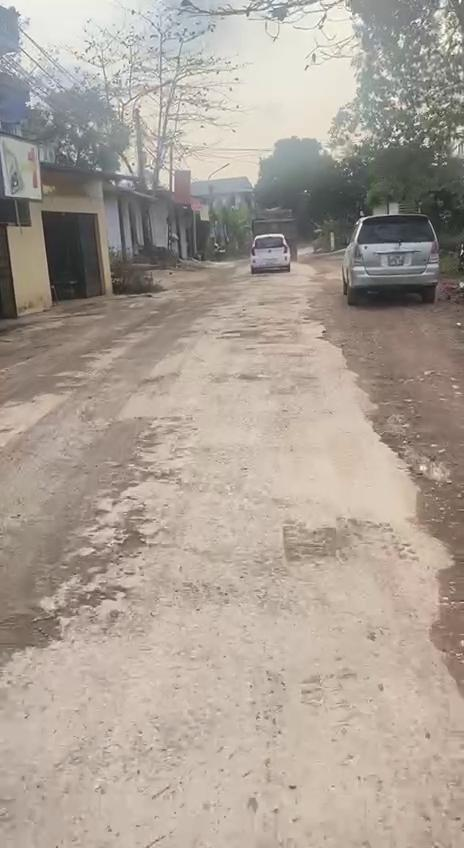pothole: (0, 584, 117, 652), (66, 503, 147, 575)
